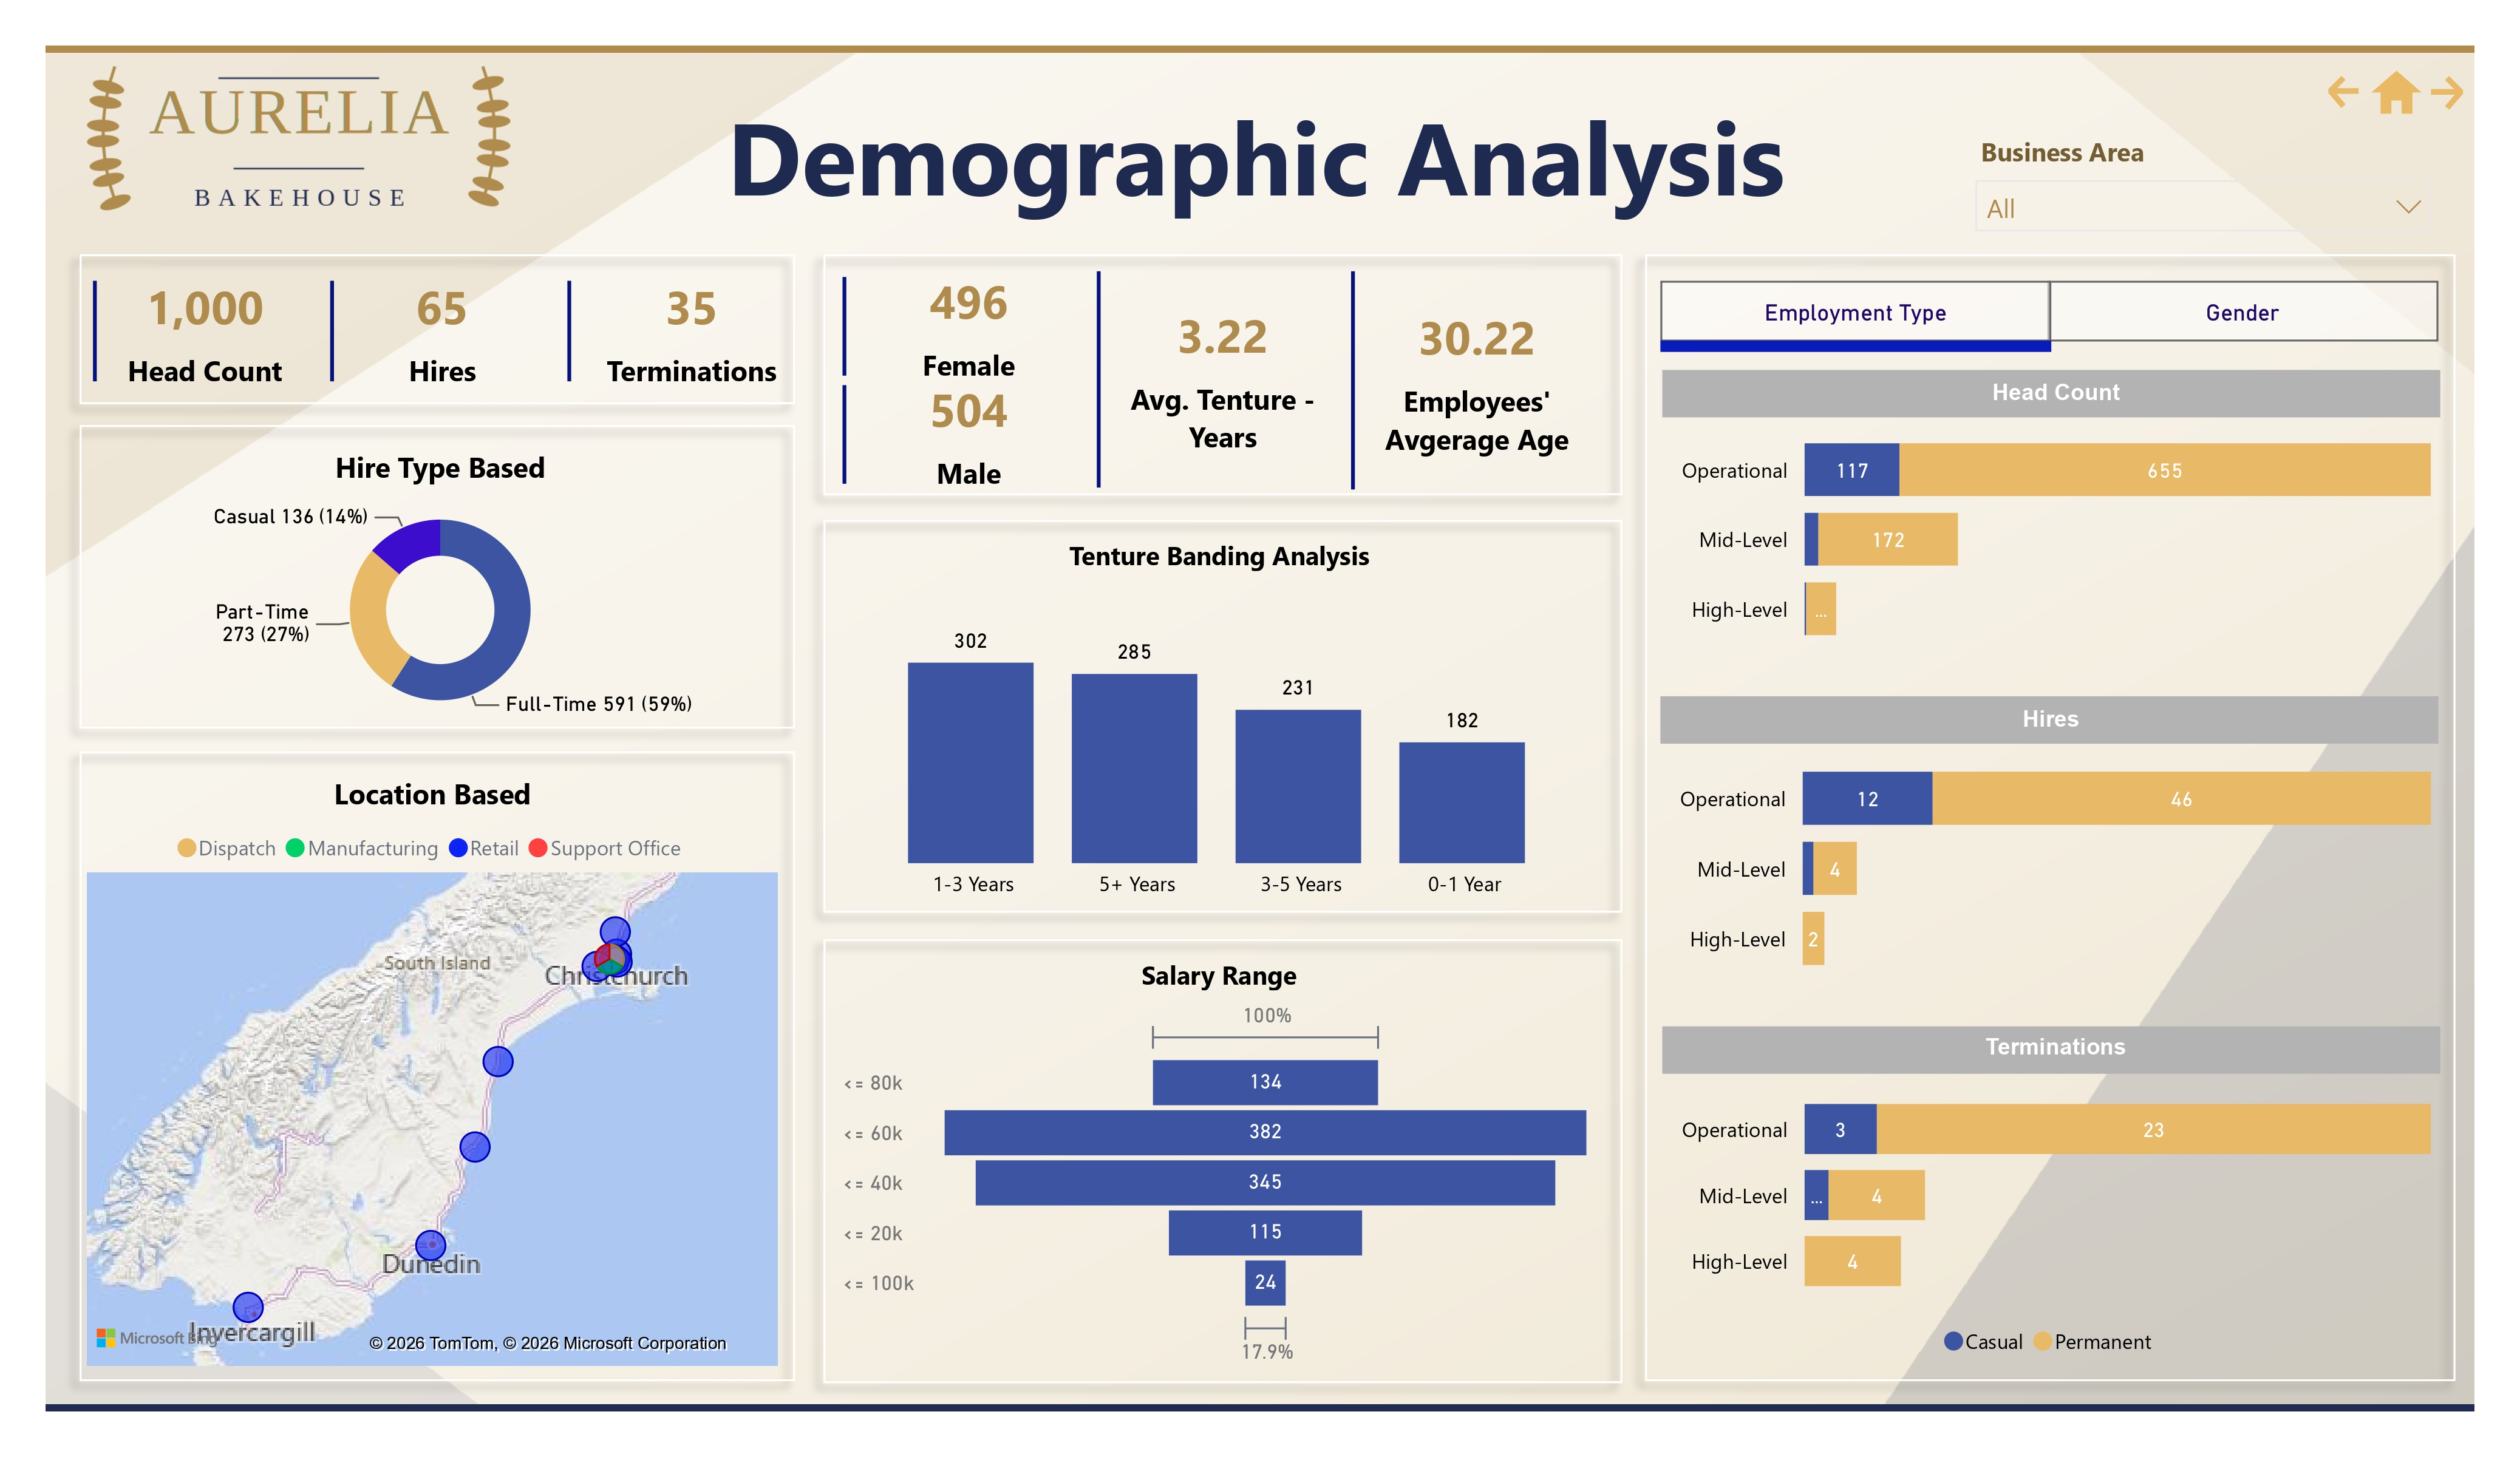

What the dashboard file says about the page in this screenshot:
{"tool":"powerbi","page":{"name":"Demographics","canvas":[1280,720],"ordinal":2},"visuals":[{"type":"shape","box":[834.4,101.1,444.2,611.8],"z":0},{"type":"shape","box":[851.5,170.7,410.1,25.3],"z":0,"group":"g12"},{"type":"shape","box":[401,241.4,439.4,225.3],"z":0,"group":"g5"},{"type":"shape","box":[851.3,343.5,410.1,25.3],"z":0,"group":"g10"},{"type":"shape","box":[851.5,517.2,410.1,25.3],"z":0,"group":"g11"},{"type":"slicer","fields":{"Values":["BusinessUnits.BusinessArea"]},"box":[1007.3,41.7,260.7,63.8],"z":1000},{"type":"shape","box":[401,461.6,439.4,251.5],"z":1000,"group":"g4"},{"type":"shape","box":[9.1,362.7,395.3,350.4],"z":2000,"group":"g1"},{"type":"cardVisual","title":"Head Count","fields":{"Data":["CountNonNull(EmployeeDetails.EmployeeID)"]},"box":[20,118.7,128.4,63.2],"z":3000,"group":"g9"},{"type":"shape","box":[9.1,191,395.3,178.3],"z":3000,"group":"g1"},{"type":"actionButton","title":"[Button] Gender","box":[1055.1,123.9,206.3,32],"z":4000},{"type":"image","box":[0,2.9,263.3,93.6],"z":5000},{"type":"cardVisual","title":"Hires","fields":{"Data":["CountNonNull(EmployeeDetails.EmployeeID)"]},"box":[145.1,118.7,128.4,63.2],"z":5000,"group":"g9"},{"type":"donutChart","title":"Hire Type Based","fields":{"Category":["EmployeeDetails.EmploymentType"],"Y":["CountNonNull(EmployeeDetails.EmployeeID)"]},"box":[16.7,211.8,381.9,150.8],"z":5000,"group":"g15"},{"type":"map","title":"Location Based","fields":{"Category":["BusinessUnits.Address"],"Series":["BusinessUnits.BusinessUnit"]},"box":[16.7,384,374.3,317.3],"z":5000,"group":"g1"},{"type":"textbox","title":"Demographic Analysis","box":[354.5,21.3,571,72.7],"z":6000},{"type":"cardVisual","title":"Head Count","fields":{"Data":["CountNonNull(EmployeeDetails.EmployeeID)"]},"box":[414.7,117,143.4,62],"z":6000,"group":"g16"},{"type":"funnel","title":"Salary Range","fields":{"Category":["EmploymentDetails.SalaryRange"],"Y":["CountNonNull(EmploymentDetails.EmployeeID)"]},"box":[414.7,480.8,407.1,220.2],"z":6000,"group":"g4"},{"type":"group","id":"g1","title":"Group 10","box":[9.1,101,402,612.1],"z":7000},{"type":"cardVisual","title":"Employees'' Avgerage Age","fields":{"Data":["Avg(EmployeeDetails.Age)"]},"box":[682.7,114.1,143.4,124.5],"z":7000,"group":"g14"},{"type":"group","id":"g2","title":"Group 12","box":[401,101,439.4,612.1],"z":8000},{"type":"cardVisual","title":"Head Count","fields":{"Data":["CountNonNull(EmployeeDetails.EmployeeID)"]},"box":[414.7,173.7,143.4,62],"z":8000,"group":"g16"},{"type":"cardVisual","title":"Avg. Tenure - Years","fields":{"Data":["Avg(EmployeeDetails.YearsOfService)"]},"box":[548.7,114.4,143.4,124],"z":9000,"group":"g14"},{"type":"cardVisual","title":"Terminations","fields":{"Data":["CountNonNull(EmployeeDetails.EmployeeID)"]},"box":[270.1,118.8,141,63],"z":9000,"group":"g9"},{"type":"barChart","title":"Head Count - Hire Type","fields":{"Category":["EmploymentDetails.OrgLevel"],"Y":["CountNonNull(EmployeeDetails.EmployeeID)"],"Series":["EmployeeDetails.EmploymentType2"]},"box":[851.5,181.8,410.1,150.5],"z":9000,"group":"g7"},{"type":"group","id":"g3","title":"Group 7","box":[401,101,439.4,145.5],"z":10000,"group":"g6"},{"type":"columnChart","title":"Tenture Banding Analysis","fields":{"Category":["EmployeeDetails.TentureYearsGroup"],"Y":["CountNonNull(EmployeeDetails.EmployeeID)"]},"box":[414.7,260.6,407.1,200],"z":10000,"group":"g5"},{"type":"group","id":"g4","title":"Group 9","box":[401,461.6,439.4,251.5],"z":10000,"group":"g2"},{"type":"actionButton","title":"[Button] Hire Type","box":[850.8,123.9,206.3,32],"z":11000},{"type":"group","id":"g5","title":"Group 8","box":[401,241.4,439.4,225.3],"z":11000,"group":"g6"},{"type":"group","id":"g6","title":"Group 11","box":[401,101,439.4,365.7],"z":12000,"group":"g2"},{"type":"shape","title":"Head Count - Hire Type","box":[851,142,206,33],"z":12000},{"type":"group","id":"g7","title":"Group 13","box":[851.5,167.2,410.1,165.1],"z":13000},{"type":"barChart","title":"Hires - Hire Type","fields":{"Category":["EmploymentDetails.OrgLevel"],"Y":["CountNonNull(EmployeeDetails.EmployeeID)"],"Series":["EmployeeDetails.EmploymentType2"]},"box":[851.7,355.6,410.1,150.5],"z":13000,"group":"g8"},{"type":"group","id":"g8","title":"Group 14","box":[851.3,339.3,410.5,166.8],"z":14000},{"type":"shape","box":[9.1,101,395.3,96.7],"z":15000,"group":"g1"},{"type":"barChart","title":"Terminations - Hire Type","fields":{"Category":["EmploymentDetails.OrgLevel"],"Y":["CountNonNull(EmployeeDetails.EmployeeID)"],"Series":["EmployeeDetails.EmploymentType2"]},"box":[851.9,531.3,410.1,169.7],"z":15000},{"type":"group","id":"g9","title":"Group 1","box":[20,118.7,391.1,63],"z":16000,"group":"g1"},{"type":"textbox","box":[931.7,167.2,254.5,31],"z":16000,"group":"g12"},{"type":"group","id":"g10","title":"Group 4","box":[851.3,339.3,410.1,31],"z":16000,"group":"g8"},{"type":"textbox","box":[929.1,339.3,256.3,31],"z":16000,"group":"g10"},{"type":"group","id":"g11","title":"Group 4","box":[851.5,512.4,410.1,31.9],"z":16000},{"type":"textbox","box":[931.7,512.4,254.5,31.9],"z":16000,"group":"g11"},{"type":"actionButton","box":[1198.8,8.9,24.8,30.1],"z":17000},{"type":"group","id":"g12","title":"Group 4","box":[851.5,167.2,410.1,31],"z":17000,"group":"g7"},{"type":"group","id":"g13","title":"Group 5","box":[16.7,211.8,381.9,150.8],"z":17000,"group":"g1"},{"type":"actionButton","box":[1252,9.8,25.7,30.1],"z":18000},{"type":"group","id":"g14","title":"Group 3","box":[414.7,114.1,411.4,124.5],"z":18000,"group":"g3"},{"type":"image","box":[1210.3,0,56.7,49.7],"z":19000},{"type":"shape","box":[401,101,439.4,145.5],"z":19000,"group":"g3"},{"type":"group","id":"g15","title":"Group 6","box":[16.7,211.8,381.9,150.8],"z":20004,"group":"g13"},{"type":"group","id":"g16","title":"Group 2","box":[414.7,117,143.4,118.7],"z":21001,"group":"g14"}]}

Visuals, with their boxes on the page's 1280x720 design canvas (x1, y1, x2, y2). These are canvas units, not pixel positions in the 2520x1457 screenshot, which may show the page scaled, cropped or inside an application window:
shape: (834, 101, 1279, 713)
shape: (852, 171, 1262, 196)
shape: (401, 241, 840, 467)
shape: (851, 344, 1261, 369)
shape: (852, 517, 1262, 542)
slicer - BusinessUnits.BusinessArea: (1007, 42, 1268, 106)
shape: (401, 462, 840, 713)
shape: (9, 363, 404, 713)
"Head Count" cardVisual: (20, 119, 148, 182)
shape: (9, 191, 404, 369)
"[Button] Gender" actionButton: (1055, 124, 1261, 156)
image: (0, 3, 263, 96)
"Hires" cardVisual: (145, 119, 274, 182)
"Hire Type Based" donutChart: (17, 212, 399, 363)
"Location Based" map: (17, 384, 391, 701)
"Demographic Analysis" textbox: (354, 21, 926, 94)
"Head Count" cardVisual: (415, 117, 558, 179)
"Salary Range" funnel: (415, 481, 822, 701)
"Group 10" group: (9, 101, 411, 713)
"Employees'' Avgerage Age" cardVisual: (683, 114, 826, 239)
"Group 12" group: (401, 101, 840, 713)
"Head Count" cardVisual: (415, 174, 558, 236)
"Avg. Tenure - Years" cardVisual: (549, 114, 692, 238)
"Terminations" cardVisual: (270, 119, 411, 182)
"Head Count - Hire Type" barChart: (852, 182, 1262, 332)
"Group 7" group: (401, 101, 840, 246)
"Tenture Banding Analysis" columnChart: (415, 261, 822, 461)
"Group 9" group: (401, 462, 840, 713)
"[Button] Hire Type" actionButton: (851, 124, 1057, 156)
"Group 8" group: (401, 241, 840, 467)
"Group 11" group: (401, 101, 840, 467)
"Head Count - Hire Type" shape: (851, 142, 1057, 175)
"Group 13" group: (852, 167, 1262, 332)
"Hires - Hire Type" barChart: (852, 356, 1262, 506)
"Group 14" group: (851, 339, 1262, 506)
shape: (9, 101, 404, 198)
"Terminations - Hire Type" barChart: (852, 531, 1262, 701)
"Group 1" group: (20, 119, 411, 182)
textbox: (932, 167, 1186, 198)
"Group 4" group: (851, 339, 1261, 370)
textbox: (929, 339, 1185, 370)
"Group 4" group: (852, 512, 1262, 544)
textbox: (932, 512, 1186, 544)
actionButton: (1199, 9, 1224, 39)
"Group 4" group: (852, 167, 1262, 198)
"Group 5" group: (17, 212, 399, 363)
actionButton: (1252, 10, 1278, 40)
"Group 3" group: (415, 114, 826, 239)
image: (1210, 0, 1267, 50)
shape: (401, 101, 840, 246)
"Group 6" group: (17, 212, 399, 363)
"Group 2" group: (415, 117, 558, 236)
